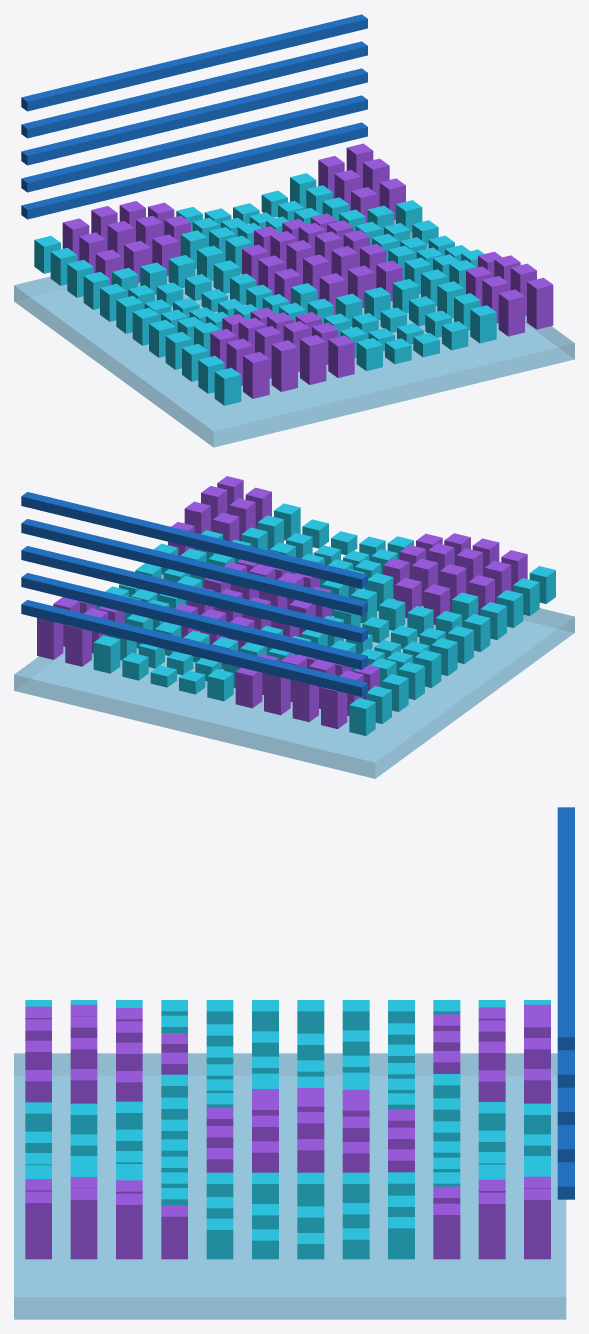
Rendered from 34_L74_WaferTopographyFocusMap.fbx.
3 views of the same model, one above another, from view 1: azimuth 30°, elevation 25°; view 2: azimuth 150°, elevation 25°; view 3: azimuth 270°, elevation 25° (orthographic). The views are drawn at different scales.
Visible parts, largest first — view 1: WaferTopographyFocusMap_Part_0000, WaferTopographyFocusMap_Part_0145, WaferTopographyFocusMap_Part_0147, WaferTopographyFocusMap_Part_0148, WaferTopographyFocusMap_Part_0146, WaferTopographyFocusMap_Part_0149, WaferTopographyFocusMap_Part_0144, WaferTopographyFocusMap_Part_0036, WaferTopographyFocusMap_Part_0048, WaferTopographyFocusMap_Part_0132, WaferTopographyFocusMap_Part_0024, WaferTopographyFocusMap_Part_0060 (+64 smaller); view 2: WaferTopographyFocusMap_Part_0000, WaferTopographyFocusMap_Part_0145, WaferTopographyFocusMap_Part_0147, WaferTopographyFocusMap_Part_0148, WaferTopographyFocusMap_Part_0149, WaferTopographyFocusMap_Part_0146, WaferTopographyFocusMap_Part_0049, WaferTopographyFocusMap_Part_0025, WaferTopographyFocusMap_Part_0121, WaferTopographyFocusMap_Part_0037, WaferTopographyFocusMap_Part_0133, WaferTopographyFocusMap_Part_0013 (+54 smaller); view 3: WaferTopographyFocusMap_Part_0000, WaferTopographyFocusMap_Part_0149, WaferTopographyFocusMap_Part_0143, WaferTopographyFocusMap_Part_0133, WaferTopographyFocusMap_Part_0134, WaferTopographyFocusMap_Part_0144, WaferTopographyFocusMap_Part_0142, WaferTopographyFocusMap_Part_0135, WaferTopographyFocusMap_Part_0141, WaferTopographyFocusMap_Part_0140, WaferTopographyFocusMap_Part_0136, WaferTopographyFocusMap_Part_0059 (+50 smaller).
Part boxes in pixels (<box>): WaferTopographyFocusMap_Part_0000: <box>14,220,574,447</box>; WaferTopographyFocusMap_Part_0145: <box>21,122,367,219</box>; WaferTopographyFocusMap_Part_0147: <box>21,68,367,165</box>; WaferTopographyFocusMap_Part_0148: <box>21,41,367,138</box>; WaferTopographyFocusMap_Part_0146: <box>21,95,367,192</box>; WaferTopographyFocusMap_Part_0149: <box>21,14,367,111</box>; WaferTopographyFocusMap_Part_0144: <box>527,277,553,329</box>; WaferTopographyFocusMap_Part_0036: <box>271,340,297,391</box>; WaferTopographyFocusMap_Part_0048: <box>300,335,326,384</box>; WaferTopographyFocusMap_Part_0132: <box>498,289,524,336</box>; WaferTopographyFocusMap_Part_0024: <box>243,352,269,398</box>; WaferTopographyFocusMap_Part_0060: <box>328,335,354,377</box>; WaferTopographyFocusMap_Part_0000: <box>14,553,574,778</box>; WaferTopographyFocusMap_Part_0145: <box>21,600,367,696</box>; WaferTopographyFocusMap_Part_0147: <box>21,546,367,642</box>; WaferTopographyFocusMap_Part_0148: <box>21,519,367,615</box>; WaferTopographyFocusMap_Part_0149: <box>21,492,367,588</box>; WaferTopographyFocusMap_Part_0146: <box>21,573,367,669</box>; WaferTopographyFocusMap_Part_0049: <box>235,667,262,708</box>; WaferTopographyFocusMap_Part_0025: <box>292,680,318,721</box>; WaferTopographyFocusMap_Part_0121: <box>65,625,91,666</box>; WaferTopographyFocusMap_Part_0037: <box>264,673,290,715</box>; WaferTopographyFocusMap_Part_0133: <box>37,618,63,659</box>; WaferTopographyFocusMap_Part_0013: <box>321,687,347,728</box>; WaferTopographyFocusMap_Part_0000: <box>14,1053,566,1319</box>; WaferTopographyFocusMap_Part_0149: <box>557,807,574,1050</box>; WaferTopographyFocusMap_Part_0143: <box>70,1188,97,1259</box>; WaferTopographyFocusMap_Part_0133: <box>524,1188,550,1259</box>; WaferTopographyFocusMap_Part_0134: <box>478,1192,505,1259</box>; WaferTopographyFocusMap_Part_0144: <box>25,1191,51,1259</box>; WaferTopographyFocusMap_Part_0142: <box>116,1193,142,1259</box>; WaferTopographyFocusMap_Part_0135: <box>433,1203,460,1259</box>; WaferTopographyFocusMap_Part_0141: <box>161,1205,187,1259</box>; WaferTopographyFocusMap_Part_0140: <box>206,1218,233,1259</box>; WaferTopographyFocusMap_Part_0136: <box>388,1217,414,1259</box>; WaferTopographyFocusMap_Part_0059: <box>70,1069,97,1103</box>.
Bounding box in the file's own units: 140 × 73.75 × 136.
